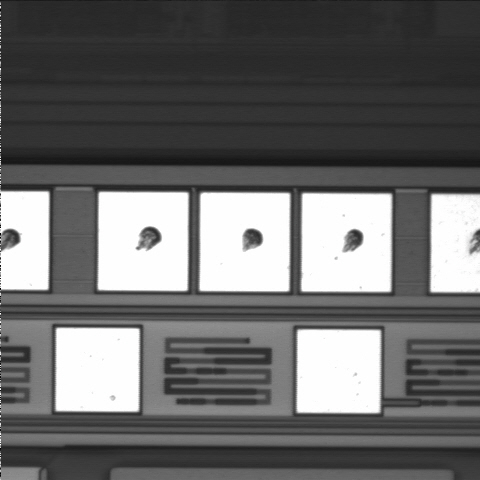pad: (98, 192, 188, 291), (301, 193, 391, 292), (200, 193, 290, 291), (56, 328, 139, 411), (297, 330, 380, 413)
